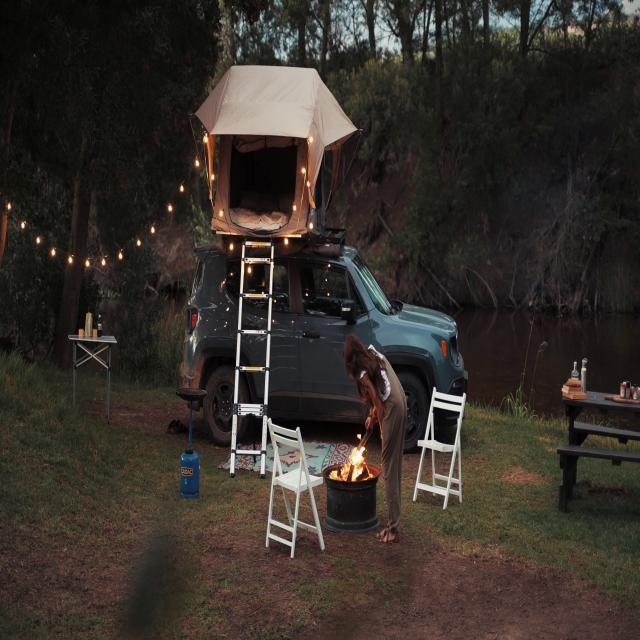Fire: (336, 436, 374, 482)
